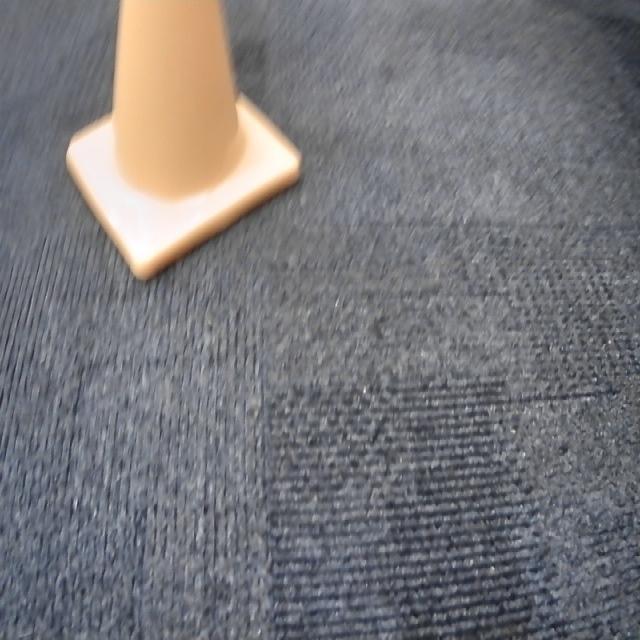cone: (61, 0, 308, 293)
